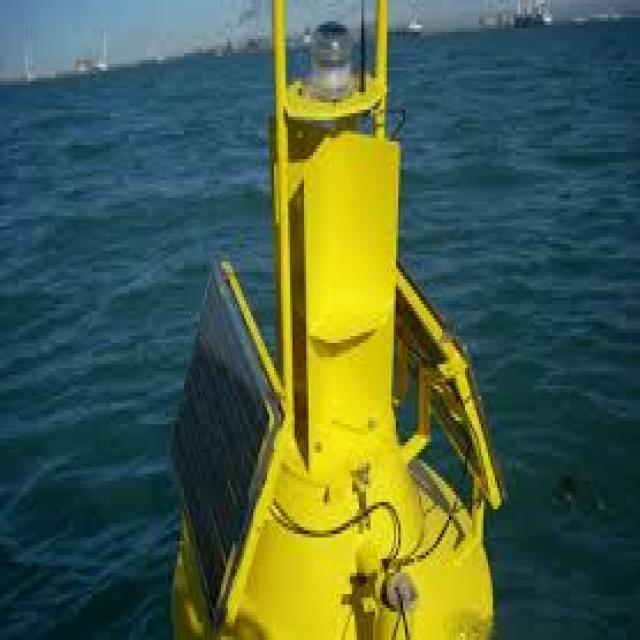buoy: (148, 1, 508, 640)
